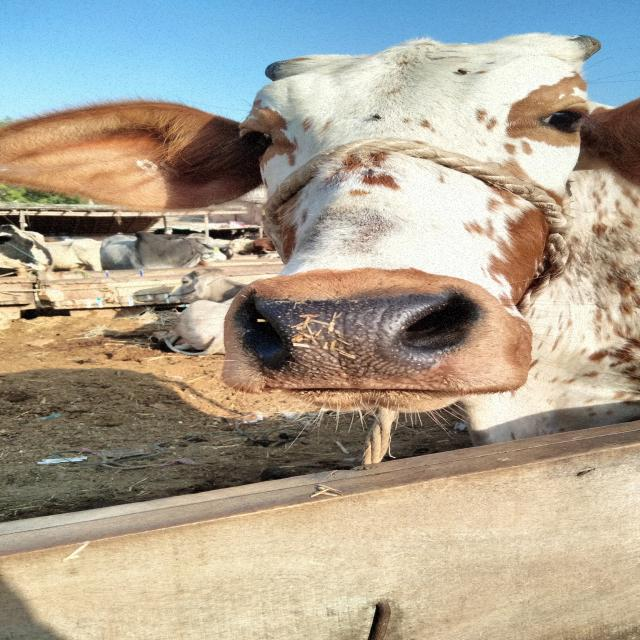muzzles: (230, 276, 486, 399)
